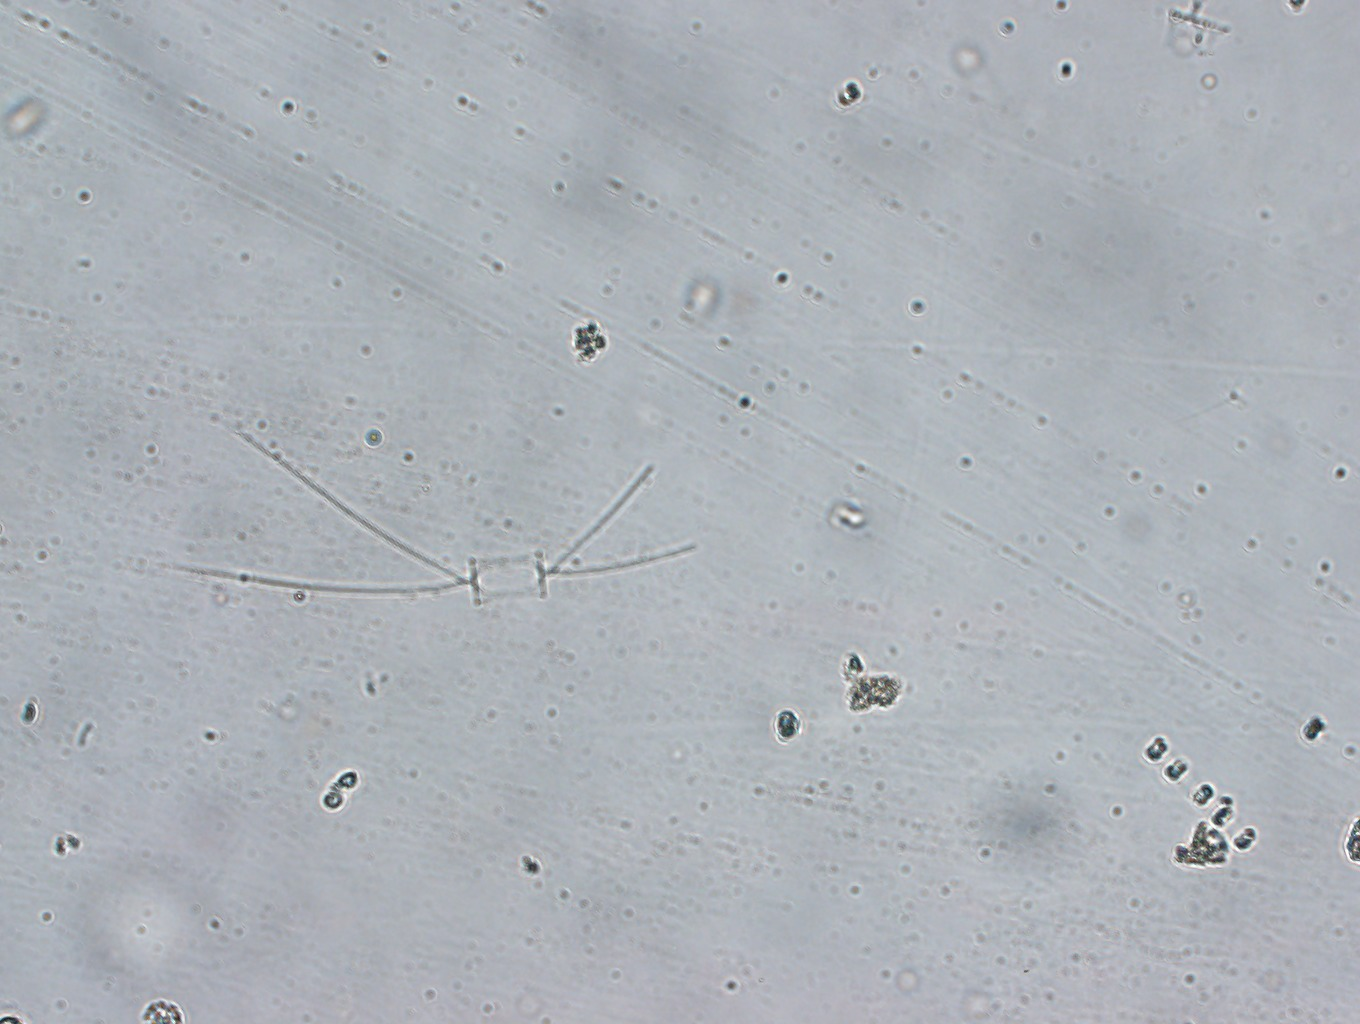chaetoceros: (172, 410, 707, 606)
skeletonema: (1131, 724, 1261, 855)
